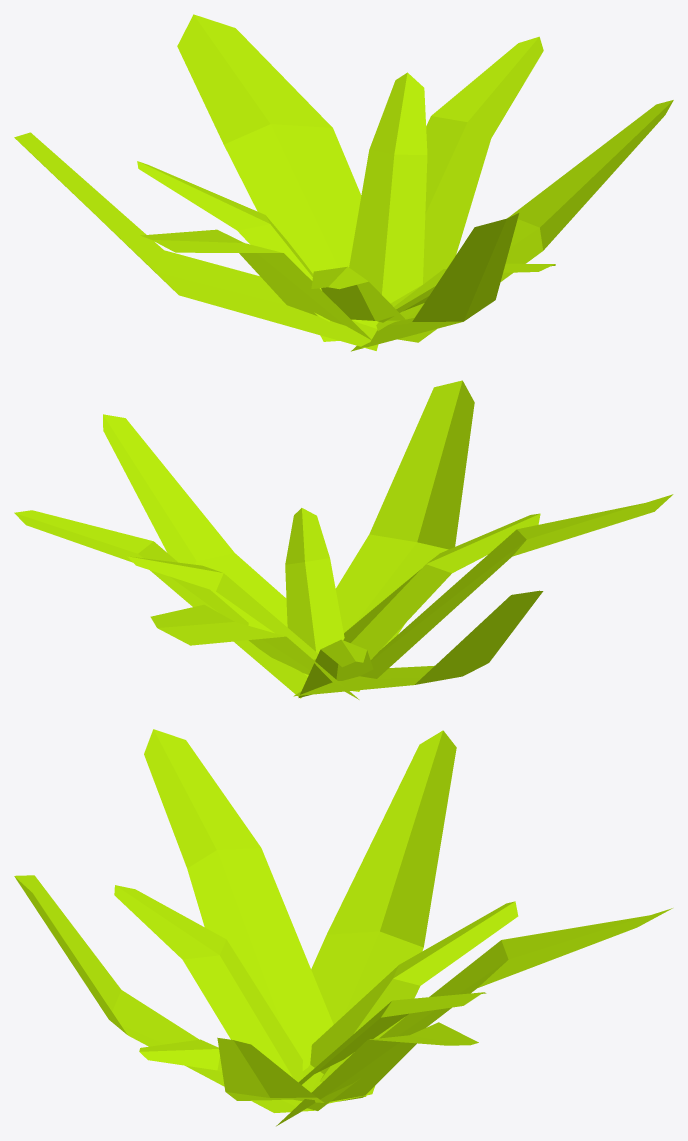
Rendered from bushes.01.fbx.
The picture shows the model from 3 angles, top to bottom: view 1: azimuth 30°, elevation 25°; view 2: azimuth 150°, elevation 25°; view 3: azimuth 270°, elevation 25°; orthographic projection. The views are drawn at different scales.
Parts seen in each view (by area): view 1: Plane.003, Plane.008, Plane.004, Plane.002, Plane.005, Plane, Plane.001, Plane.007, Plane.006, Plane.009; view 2: Plane, Plane.005, Plane.001, Plane.009, Plane.004, Plane.006, Plane.002, Plane.003, Plane.008, Plane.007; view 3: Plane.001, Plane.002, Plane.006, Plane, Plane.003, Plane.007, Plane.004, Plane.005, Plane.008, Plane.009.
Part boxes in pixels (left/top/right/bottom): Plane.003: left=177, top=14, right=378, bottom=341; Plane.008: left=349, top=72, right=427, bottom=303; Plane.004: left=390, top=36, right=543, bottom=306; Plane.002: left=14, top=132, right=378, bottom=350; Plane.005: left=376, top=100, right=673, bottom=342; Plane: left=351, top=213, right=519, bottom=351; Plane.001: left=140, top=229, right=372, bottom=340; Plane.007: left=137, top=161, right=329, bottom=321; Plane.006: left=311, top=266, right=405, bottom=320; Plane.009: left=377, top=263, right=555, bottom=322; Plane: left=335, top=380, right=474, bottom=691; Plane.005: left=103, top=414, right=308, bottom=676; Plane.001: left=360, top=494, right=673, bottom=678; Plane.009: left=285, top=508, right=344, bottom=660; Plane.004: left=14, top=510, right=307, bottom=698; Plane.006: left=343, top=513, right=540, bottom=659; Plane.002: left=293, top=590, right=543, bottom=696; Plane.003: left=150, top=604, right=359, bottom=699; Plane.008: left=127, top=556, right=318, bottom=659; Plane.007: left=298, top=639, right=373, bottom=697; Plane.001: left=144, top=729, right=333, bottom=1070; Plane.002: left=302, top=730, right=456, bottom=1103; Plane.006: left=114, top=885, right=302, bottom=1085; Plane: left=14, top=875, right=314, bottom=1112; Plane.003: left=307, top=908, right=672, bottom=1110; Plane.007: left=310, top=901, right=518, bottom=1096; Plane.004: left=276, top=1022, right=478, bottom=1126; Plane.005: left=217, top=1037, right=323, bottom=1102; Plane.008: left=298, top=992, right=486, bottom=1084; Plane.009: left=139, top=1039, right=302, bottom=1106.
Size of the model in its own units: 98.25 by 37.55 by 96.17.
